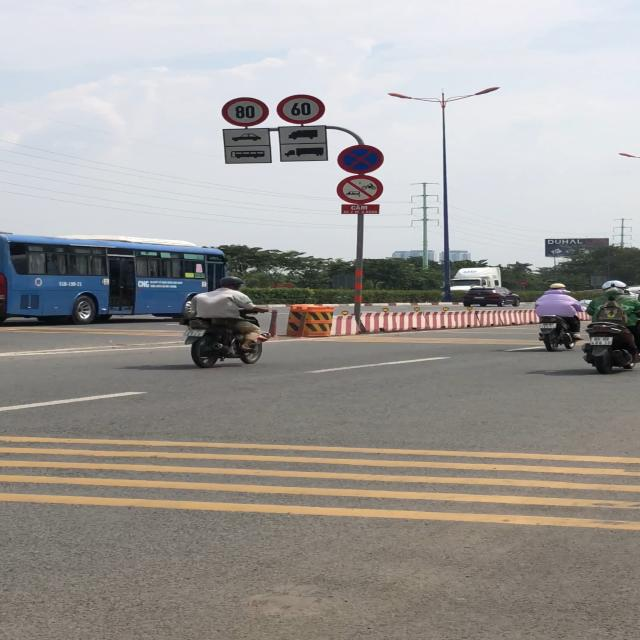Bien bao cam dung xe va do xe: (338, 143, 382, 175)
Bien bao toc do toi da cho phep: (220, 97, 270, 128), (276, 93, 326, 123)
